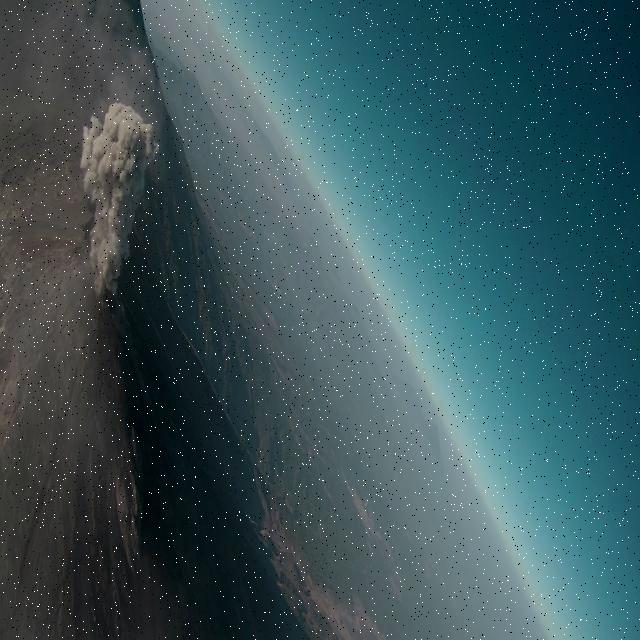Plume: (80, 98, 158, 296)
Summit: (72, 262, 134, 325)
